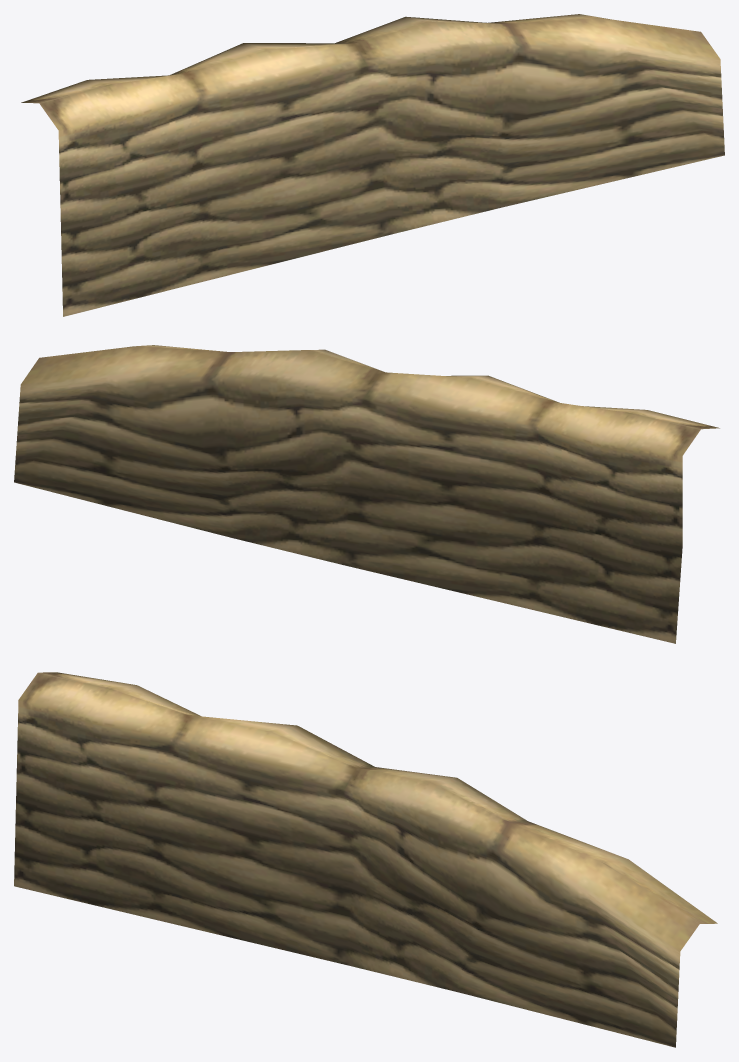
Rendered from Sandbags2_High2Med_Straight2.glb.
3 renders of one model, top to bottom at view 1: azimuth 30°, elevation 25°; view 2: azimuth 150°, elevation 25°; view 3: azimuth 330°, elevation 25°, orthographic.
Visible parts, largest first — view 1: SANDBAGS2_HIGH2MED_STRAIGHT2; view 2: SANDBAGS2_HIGH2MED_STRAIGHT2; view 3: SANDBAGS2_HIGH2MED_STRAIGHT2.
Boxes of the visible parts, x1,y1,x2,y2 form: SANDBAGS2_HIGH2MED_STRAIGHT2: (21, 14, 724, 316); SANDBAGS2_HIGH2MED_STRAIGHT2: (14, 345, 719, 643); SANDBAGS2_HIGH2MED_STRAIGHT2: (14, 672, 717, 1047).
Size of the model in its own units: 4 by 1.13 by 0.542.
Materials: 1 (1 with a texture image).
